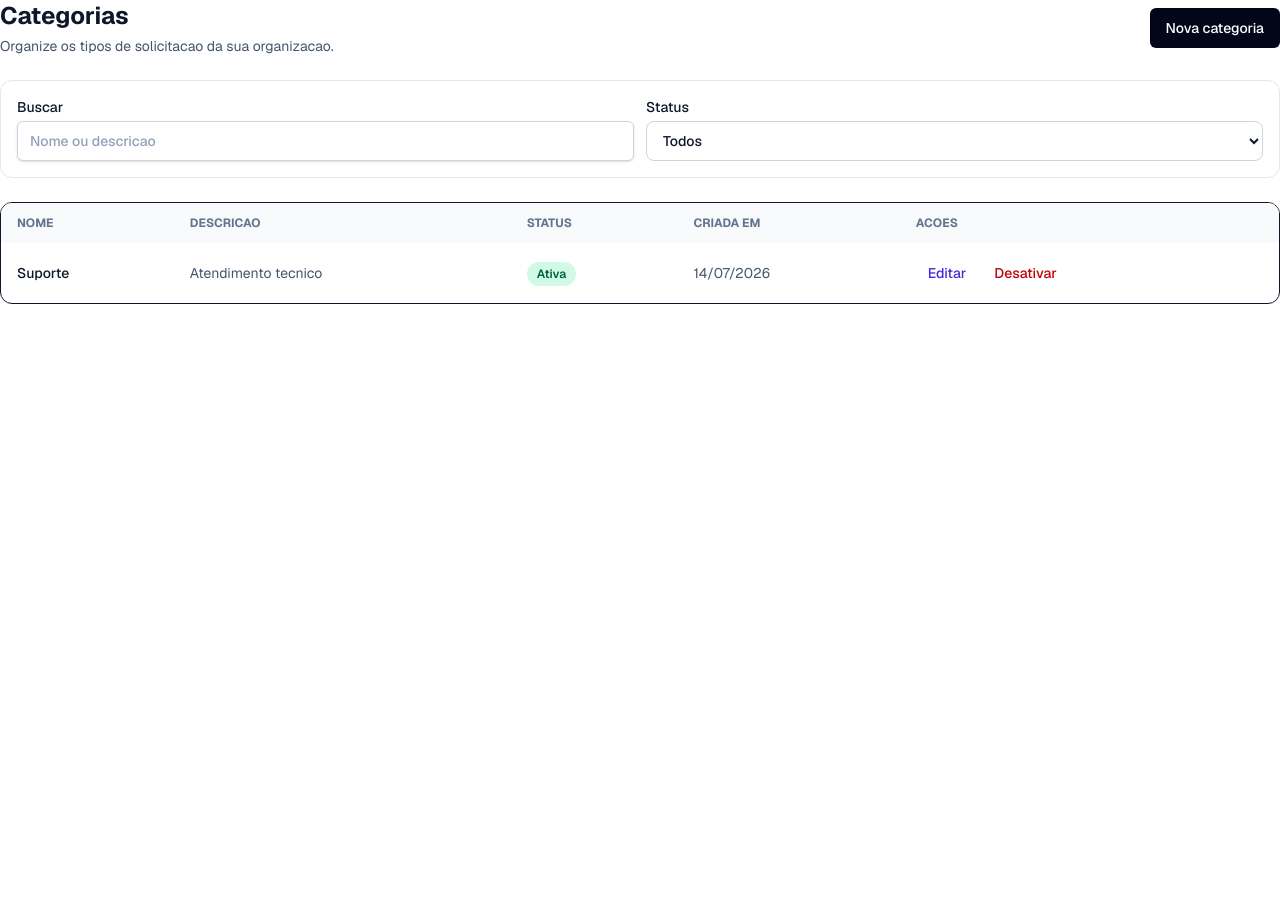
gerenciamento de categorias › edita nome e descricao
The image size is (1280, 900).
Expected: the text "Suporte" is shown, [1,243,174,303]
Click the button "Editar": (947, 273) [916,255,978,291]
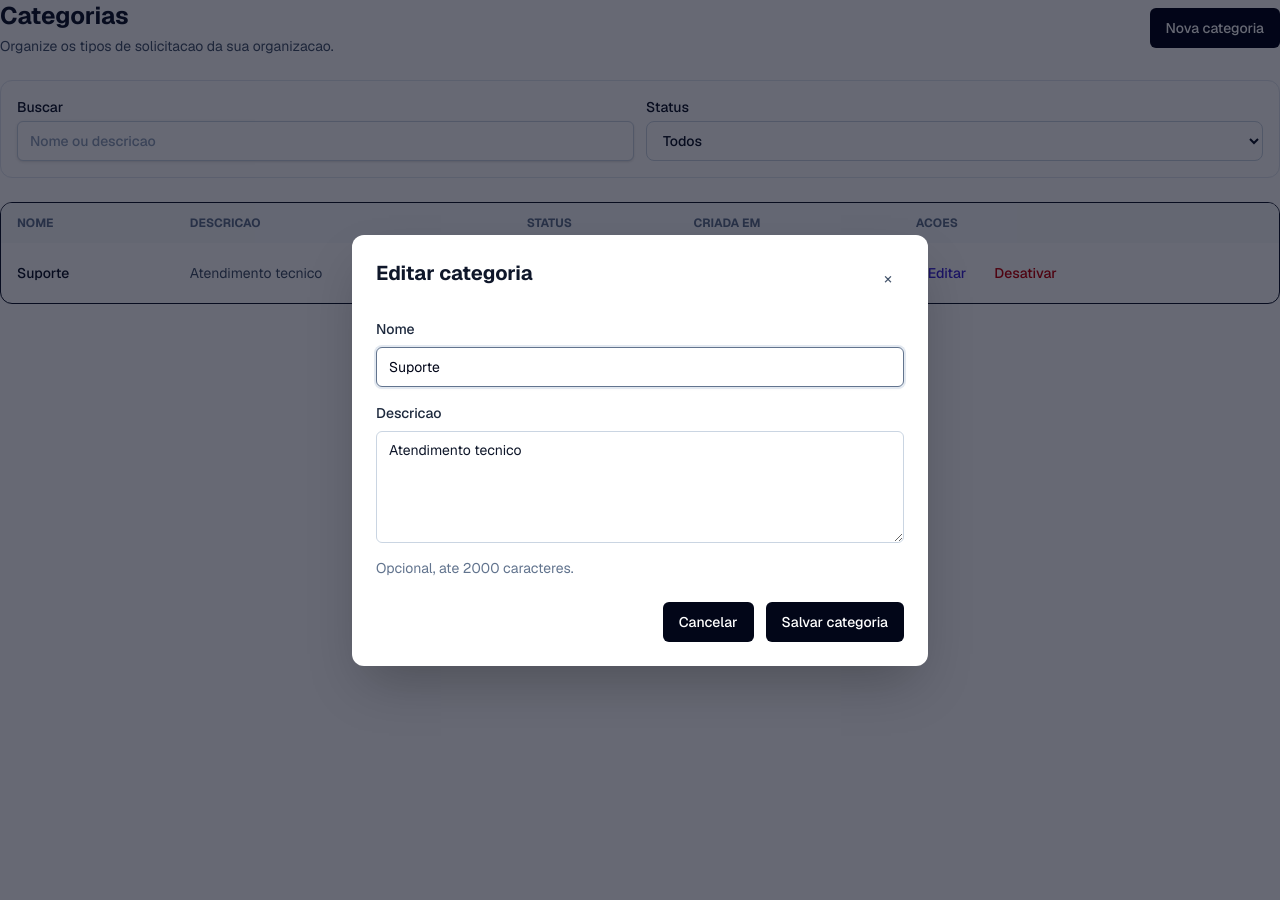
Replace the text in the field labelled "Nome" with "Suporte Premium": (640, 366) [376,346,904,386]
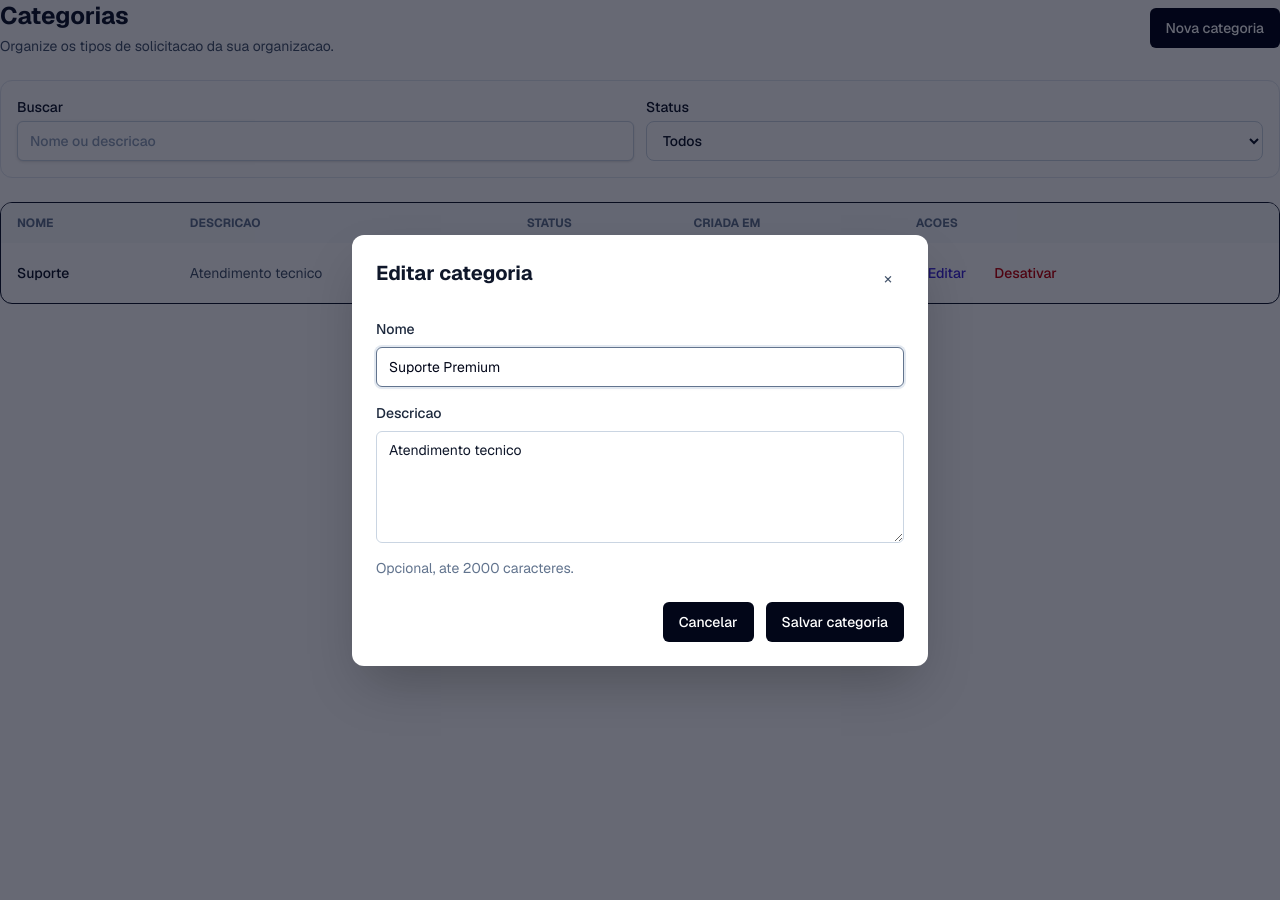
Replace the text in the text box labelled "Descricao" with "Prioridade": (640, 486) [376,430,904,542]
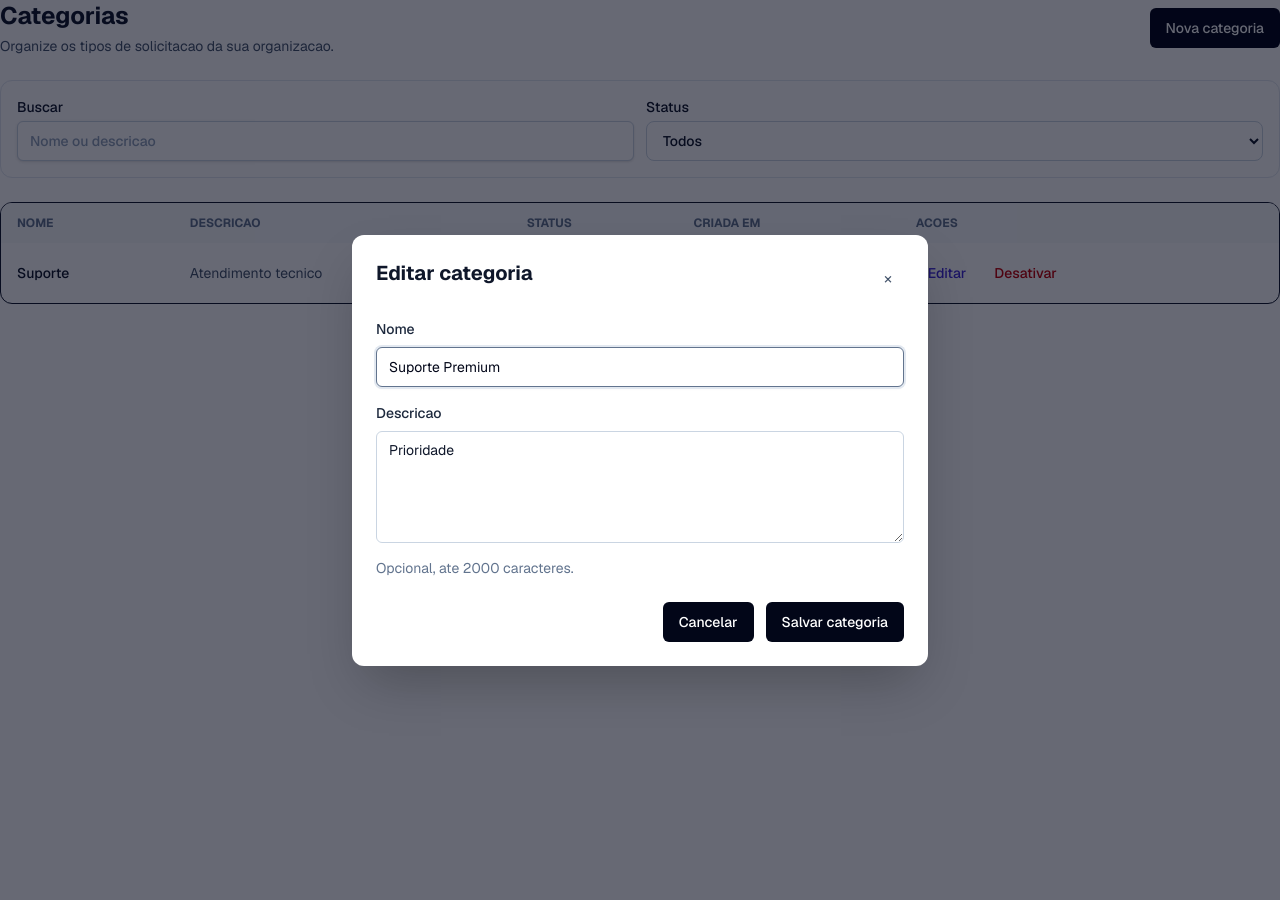
Click the button "Salvar categoria": (835, 622) [766,602,904,642]
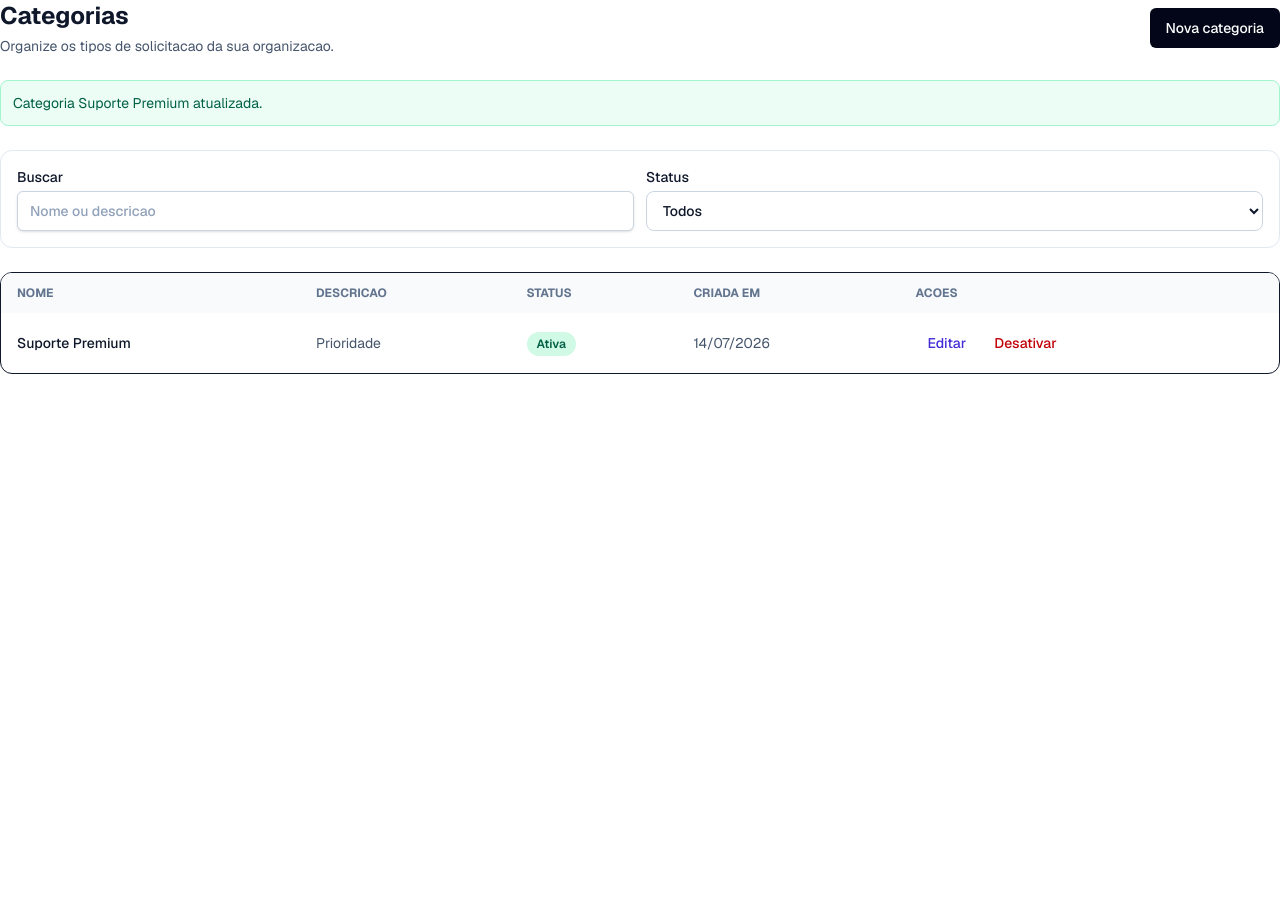
Expected: the text "Categoria Suporte Premium atualizada." is shown, [0,80,1279,126]
